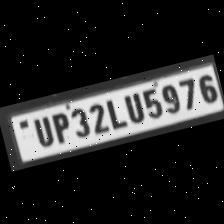2: (82, 97, 109, 136)
3: (65, 102, 91, 139)
5: (138, 83, 164, 120)
6: (192, 68, 220, 105)
7: (173, 74, 200, 111)
9: (155, 78, 181, 116)
L: (100, 92, 127, 130)
P: (46, 107, 72, 144)
U: (119, 87, 146, 125), (27, 111, 54, 148)
